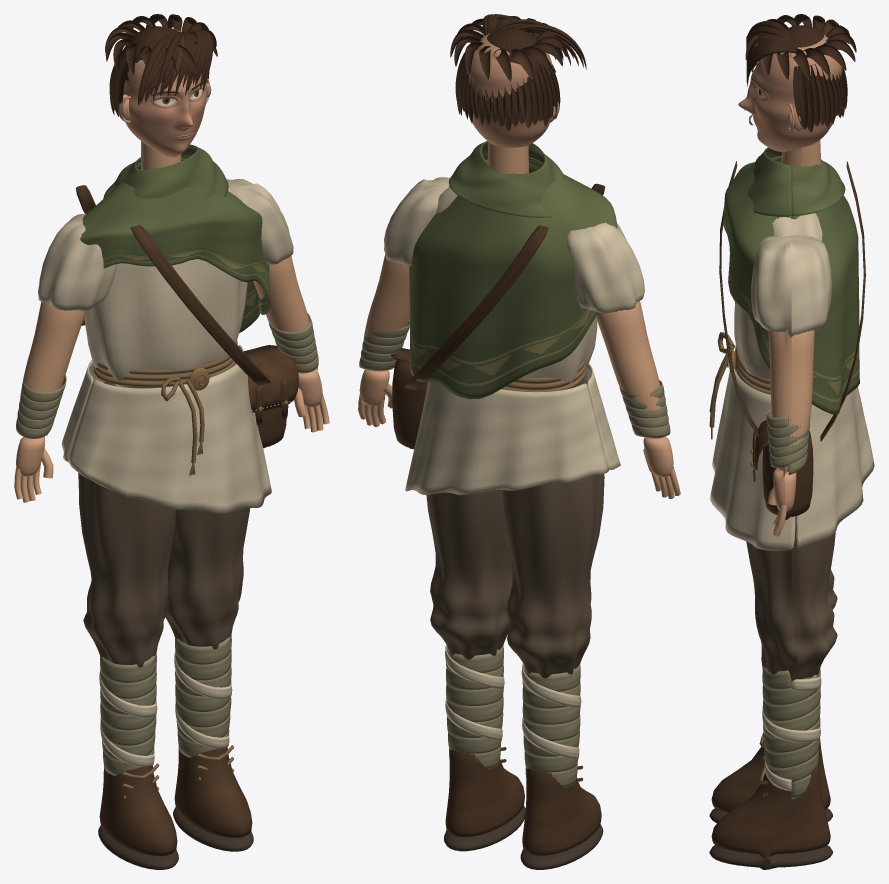
Rendered from ruin-runner-study.glb.
The picture shows the model from 3 angles, left to right: view 1: azimuth 30°, elevation 25°; view 2: azimuth 150°, elevation 25°; view 3: azimuth 270°, elevation 25°; orthographic projection. The views are drawn at different scales.
Parts seen in each view (by area): view 1: Overlapping tunic front, Gathered trousers L, Linen torso with gathered waist, Separate olive mantle panel, Gathered trousers R, Boot upper R, Boot upper L, Short folded sleeve L, Broad calf binding R, Broad calf binding L, Continuous sculpted face skull jaw and nose, Arm anatomy L (+19 smaller); view 2: Separate olive mantle panel, Overlapping tunic back, Gathered trousers L, Gathered trousers R, Short folded sleeve L, Boot upper R, Boot upper L, Draped folded shoulder cowl, Broad calf binding L, Broad calf binding R, Arm anatomy L, Continuous sculpted face skull jaw and nose (+16 smaller); view 3: Separate olive mantle panel, Gathered trousers R, Overlapping tunic front, Overlapping tunic back, Short folded sleeve R, Boot upper R, Broad calf binding R, Draped folded shoulder cowl, Continuous sculpted face skull jaw and nose, Arm anatomy R, Linen torso with gathered waist, Boot upper L (+15 smaller).
Boxes of the visible parts, x1,y1,x2,y2 form: Overlapping tunic front: [68, 345, 271, 513]; Gathered trousers L: [78, 382, 176, 667]; Linen torso with gathered waist: [84, 187, 247, 388]; Separate olive mantle panel: [80, 158, 269, 333]; Gathered trousers R: [165, 363, 250, 649]; Boot upper R: [174, 746, 252, 837]; Boot upper L: [99, 766, 177, 855]; Short folded sleeve L: [38, 213, 117, 310]; Broad calf binding R: [175, 634, 231, 757]; Broad calf binding L: [100, 653, 156, 775]; Continuous sculpted face skull jaw and nose: [123, 29, 206, 156]; Arm anatomy L: [19, 302, 86, 435]; Separate olive mantle panel: [409, 157, 617, 399]; Overlapping tunic back: [405, 382, 608, 494]; Gathered trousers L: [502, 385, 604, 678]; Gathered trousers R: [426, 489, 512, 659]; Short folded sleeve L: [566, 222, 644, 313]; Boot upper R: [445, 749, 524, 836]; Boot upper L: [522, 768, 601, 855]; Draped folded shoulder cowl: [449, 141, 565, 217]; Broad calf binding L: [522, 663, 580, 788]; Broad calf binding R: [446, 645, 503, 769]; Arm anatomy L: [596, 301, 663, 438]; Continuous sculpted face skull jaw and nose: [466, 33, 552, 147]; Separate olive mantle panel: [723, 156, 859, 414]; Gathered trousers R: [746, 516, 837, 681]; Overlapping tunic front: [710, 350, 795, 550]; Overlapping tunic back: [796, 387, 874, 548]; Short folded sleeve R: [751, 235, 831, 337]; Boot upper R: [711, 763, 830, 857]; Broad calf binding R: [762, 666, 820, 799]; Draped folded shoulder cowl: [747, 147, 845, 216]; Continuous sculpted face skull jaw and nose: [738, 34, 842, 152]; Arm anatomy R: [768, 329, 814, 477]; Linen torso with gathered waist: [734, 213, 822, 384]; Boot upper L: [711, 739, 830, 812].
Bounding box in the file's own units: 0.699 × 1.71 × 0.3165.
Materials: 19 (9 with a texture image).
